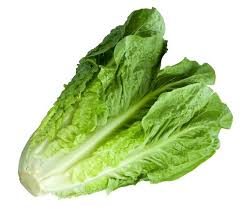lettuce: (21, 6, 234, 201)
